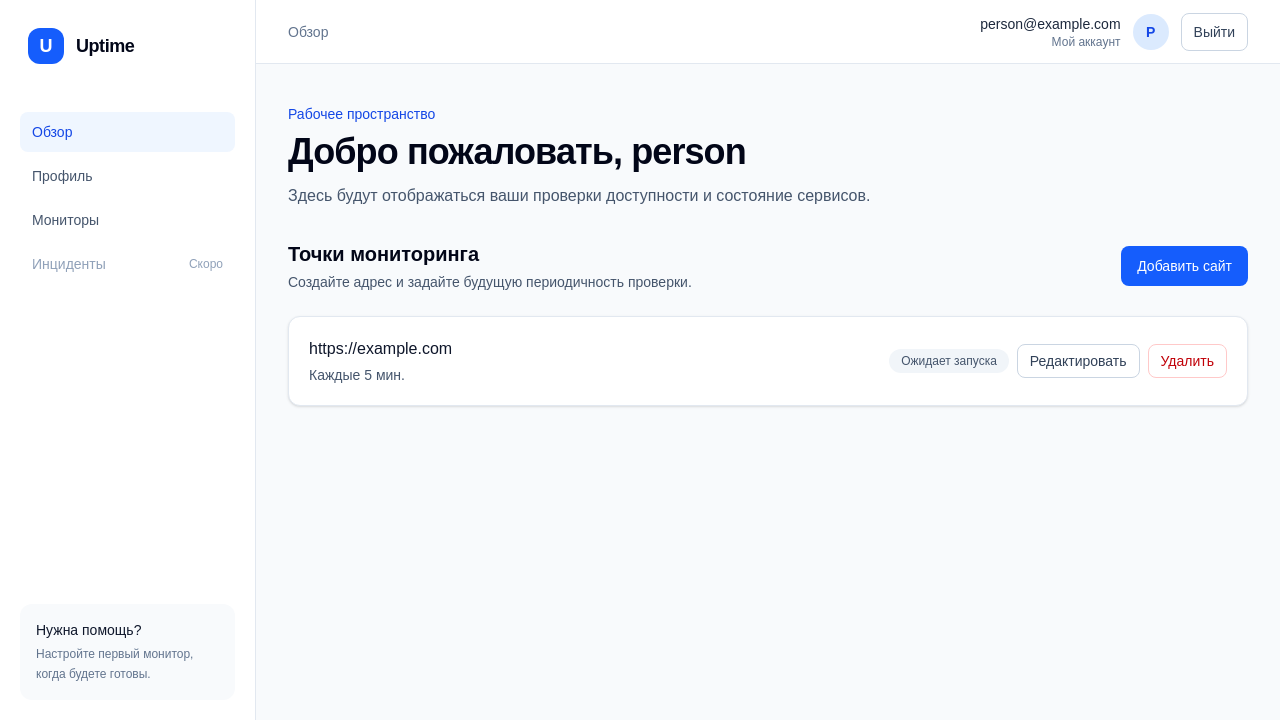
Scenario: DashboardPage › confirms and deletes a monitor
This screenshot has width=1280, height=720.
Expected: the text "https://example.com" is shown, [309,337,452,361]
What coordinates should you click on to do the following:
click the button "Удалить"
I would click on:
 (1187, 361)
Its box is [1148,344,1227,378].
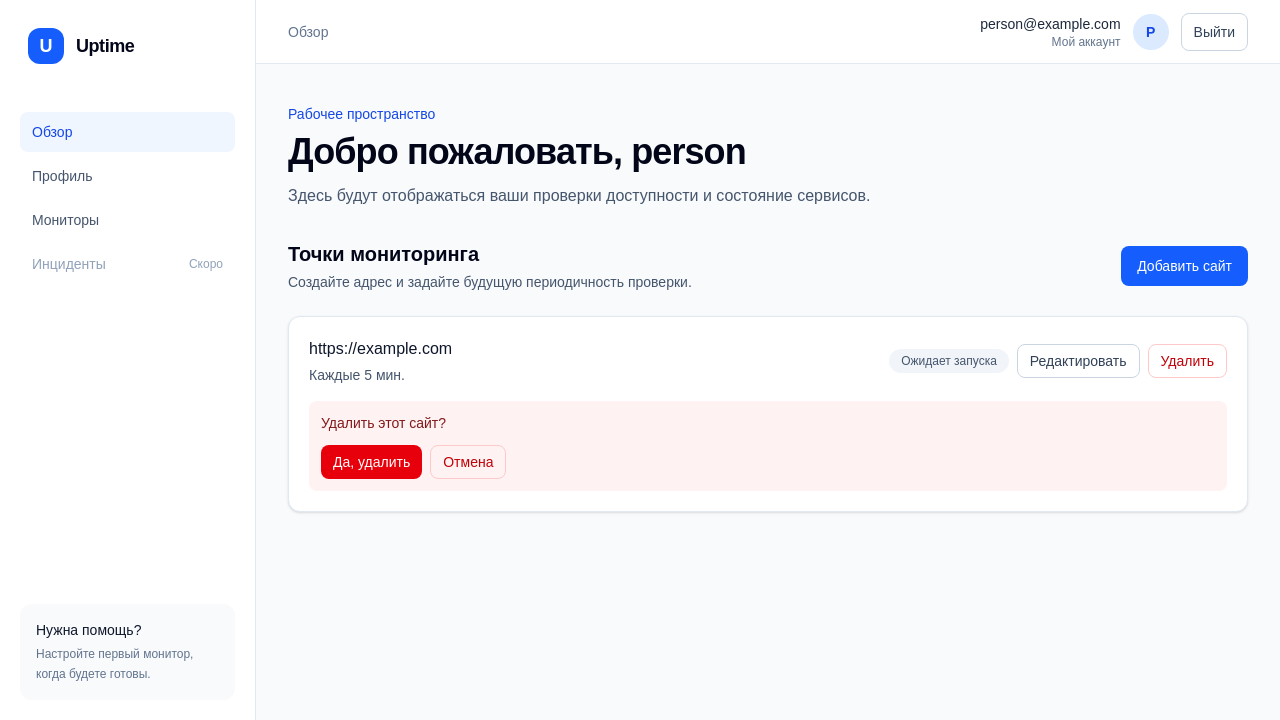
Expected: the text "Удалить этот сайт?" is shown, [321,415,446,431]
What coordinates should you click on to do the following:
click the button "Да, удалить"
I would click on:
 (372, 462)
Its box is [321,445,422,479].
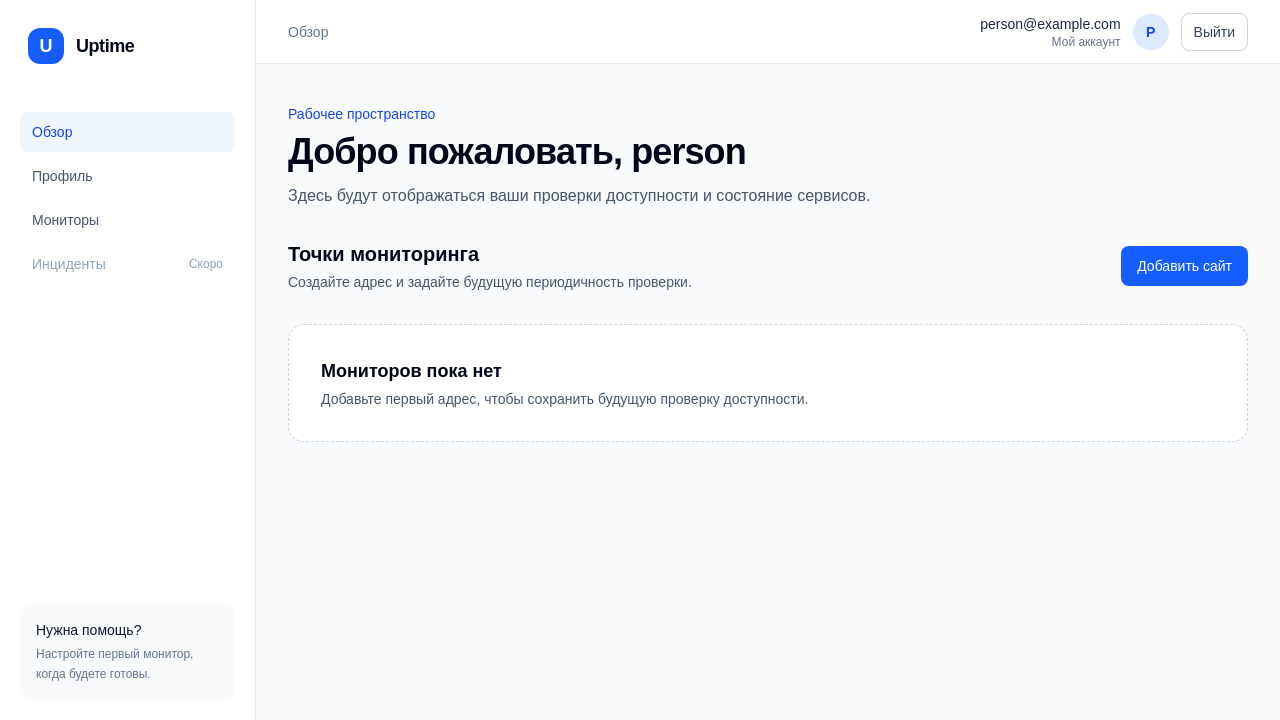
Expected: the text "https://example.com" is gone
